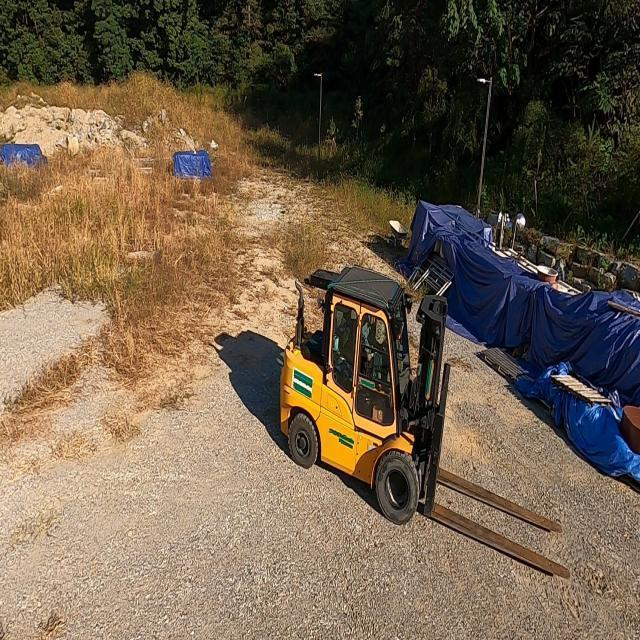forklift: (282, 272, 451, 522)
